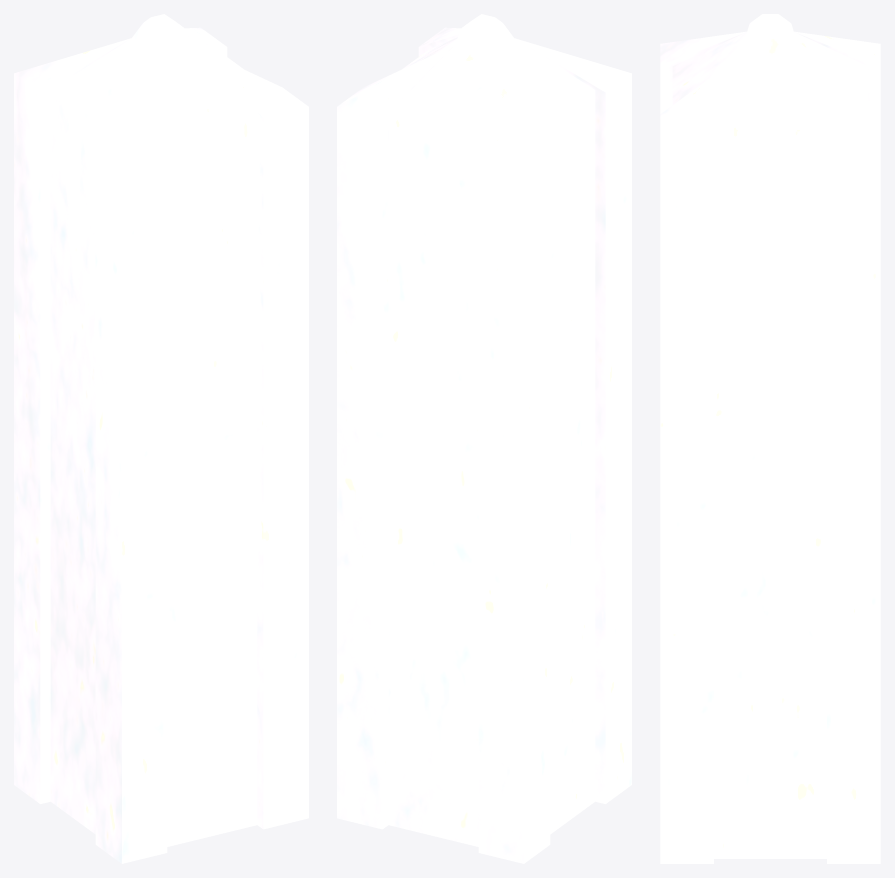
Rendered from CA_006_iron_pillar.glb.
The picture shows the model from 3 angles, left to right: view 1: azimuth 30°, elevation 25°; view 2: azimuth 150°, elevation 25°; view 3: azimuth 270°, elevation 25°; orthographic projection. The views are drawn at different scales.
Parts seen in each view (by area): view 1: pillar; view 2: pillar; view 3: pillar.
Part boxes in pixels (bbox=[...]): pillar: bbox=[14, 14, 308, 863]; pillar: bbox=[337, 14, 631, 863]; pillar: bbox=[660, 14, 880, 863].
Size of the model in its own units: 0.75 by 3.01 by 0.75.
Materials: 1 (1 with a texture image).
